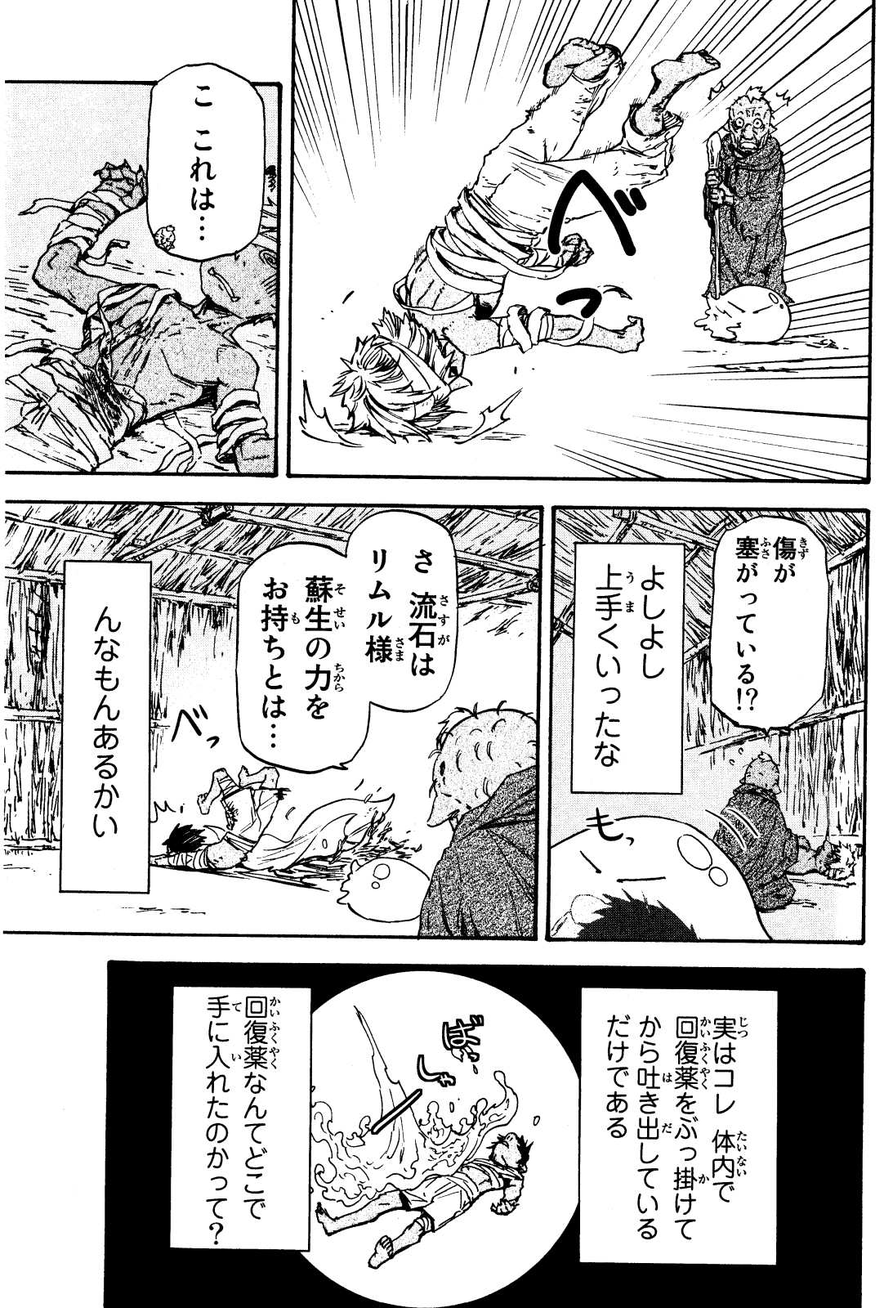bubbles: (234, 508, 464, 774), (574, 979, 784, 1270), (165, 982, 318, 1255), (58, 555, 158, 904), (570, 536, 689, 800), (703, 512, 834, 741), (141, 56, 270, 270)
